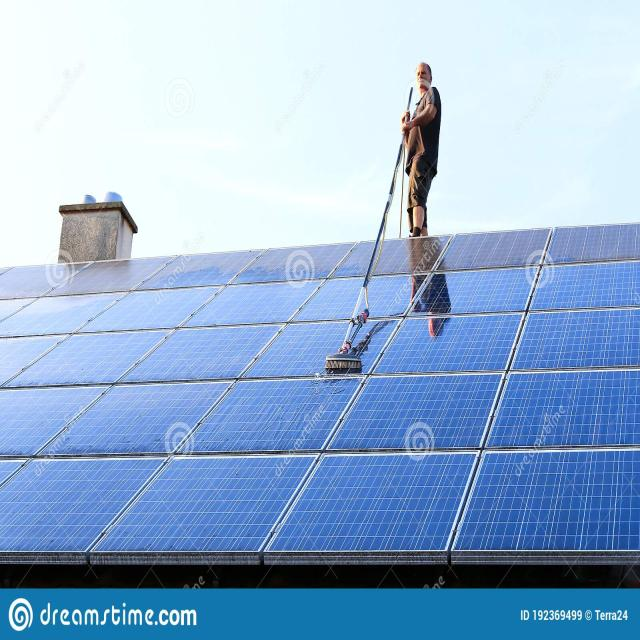clean-solar-panel: (0, 224, 640, 587)
